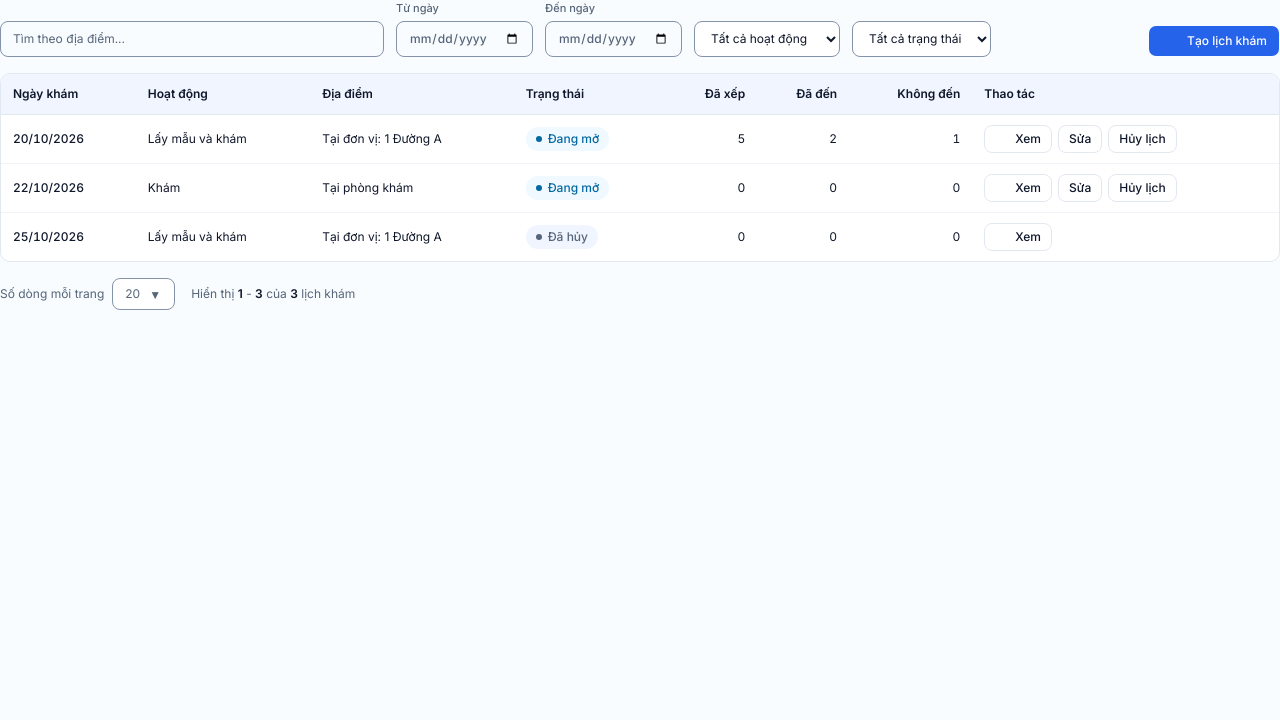
Scenario: creating a session › asks for a date and, at the organization, for the address, before any request
Click the button "Tạo lịch khám": point(1214, 40) [1148,24,1279,56]
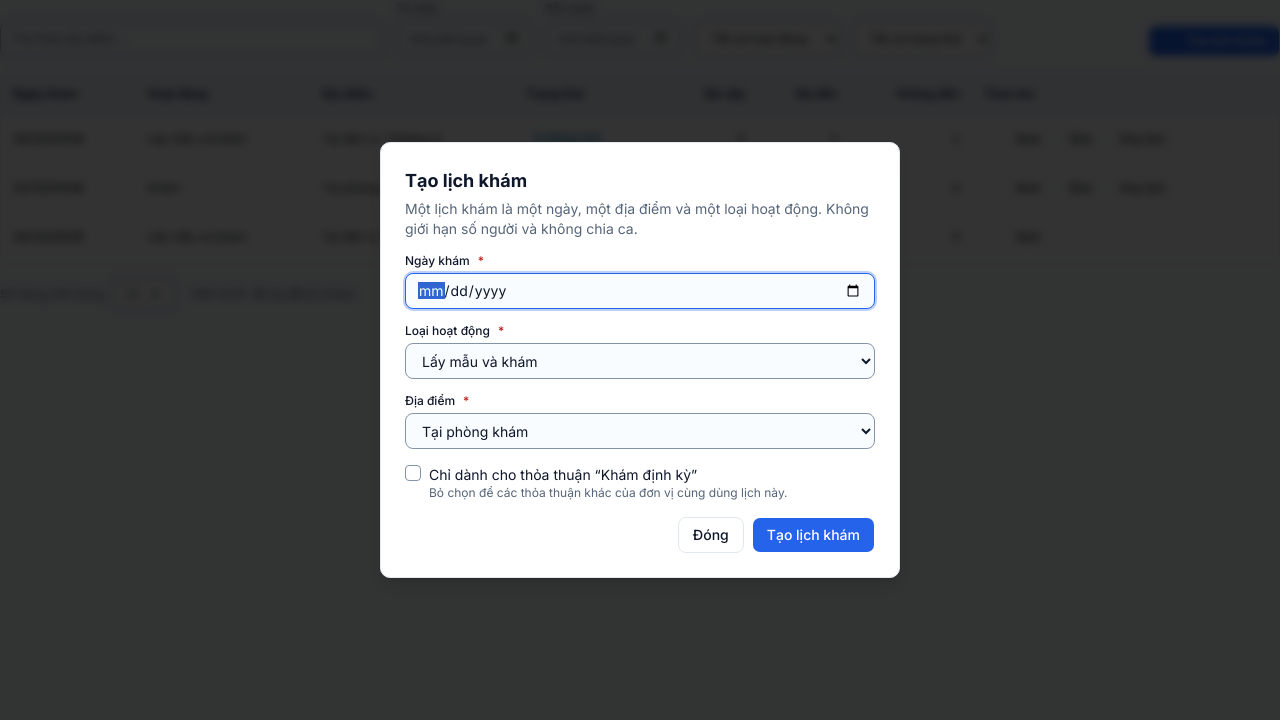
Click the button "Tạo lịch khám": point(813, 535) [752,517,875,553]
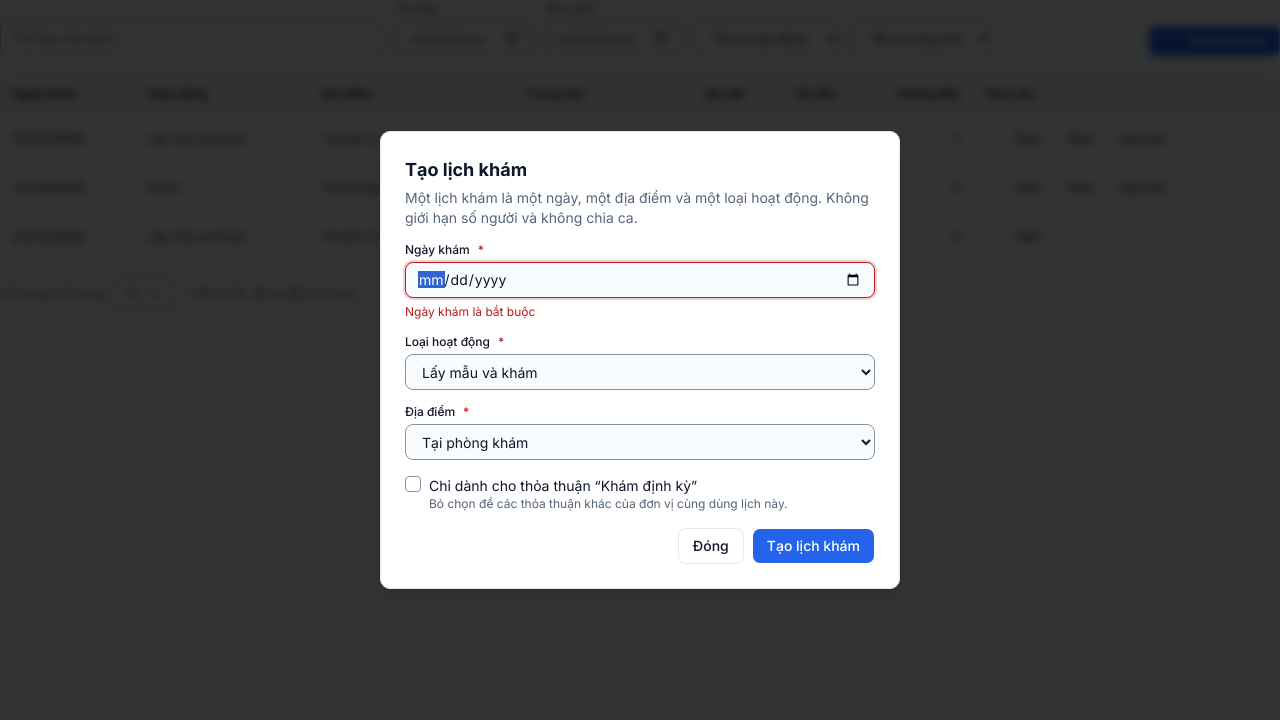
expect the text "Ngày khám là bắt buộc" is shown: met, box [405,304,535,319]
Select "Tại đơn vị" in the dropdown labelled "Địa điểm *": point(640, 442) [405,424,875,460]
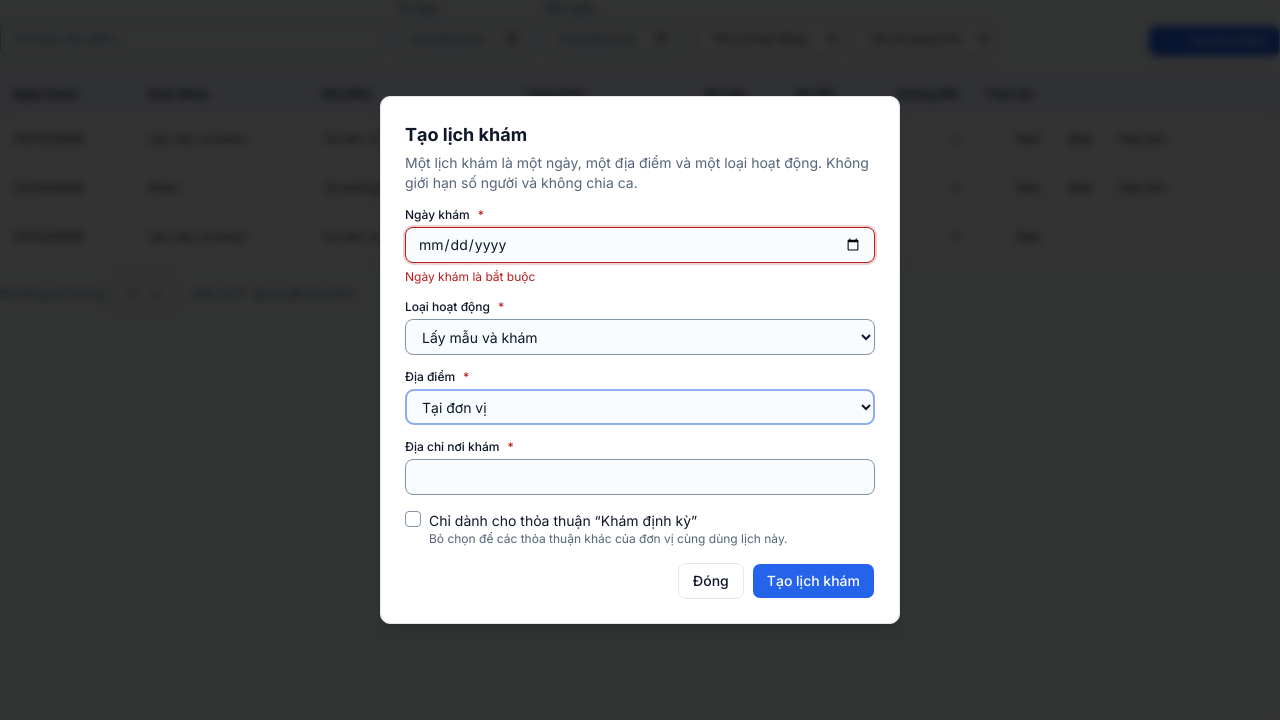
In the date field labelled "Ngày khám *": point(640, 245) [405,227,875,263], type "2026-10-23"
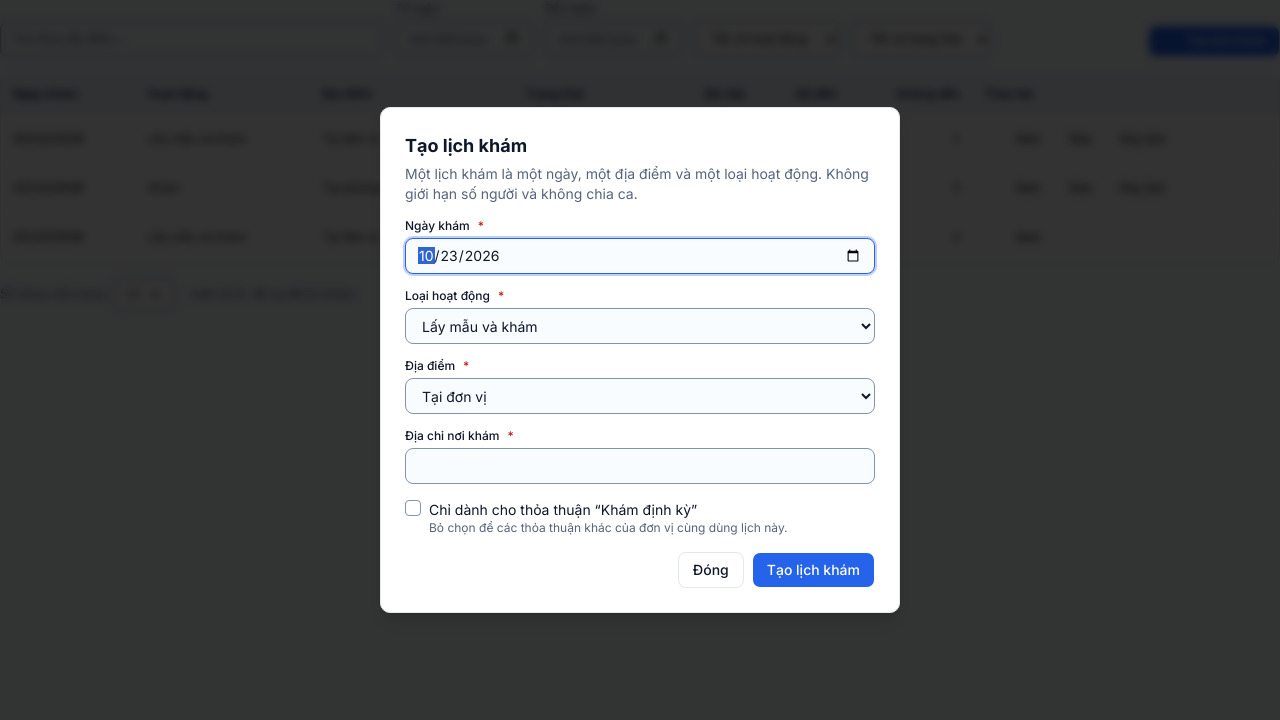
Click the button "Tạo lịch khám": point(813, 570) [752,552,875,588]
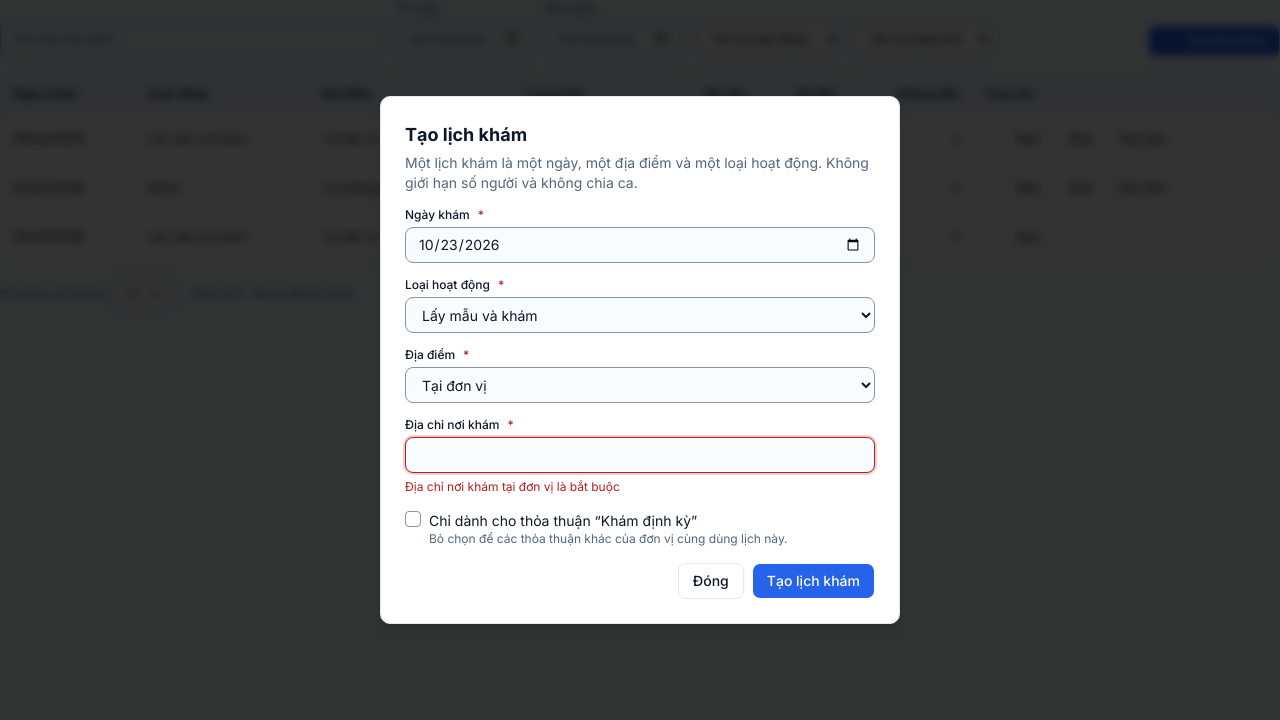
expect the text "Địa chỉ nơi khám tại đơn vị là bắt buộc" is shown: met, box [405,479,620,494]
